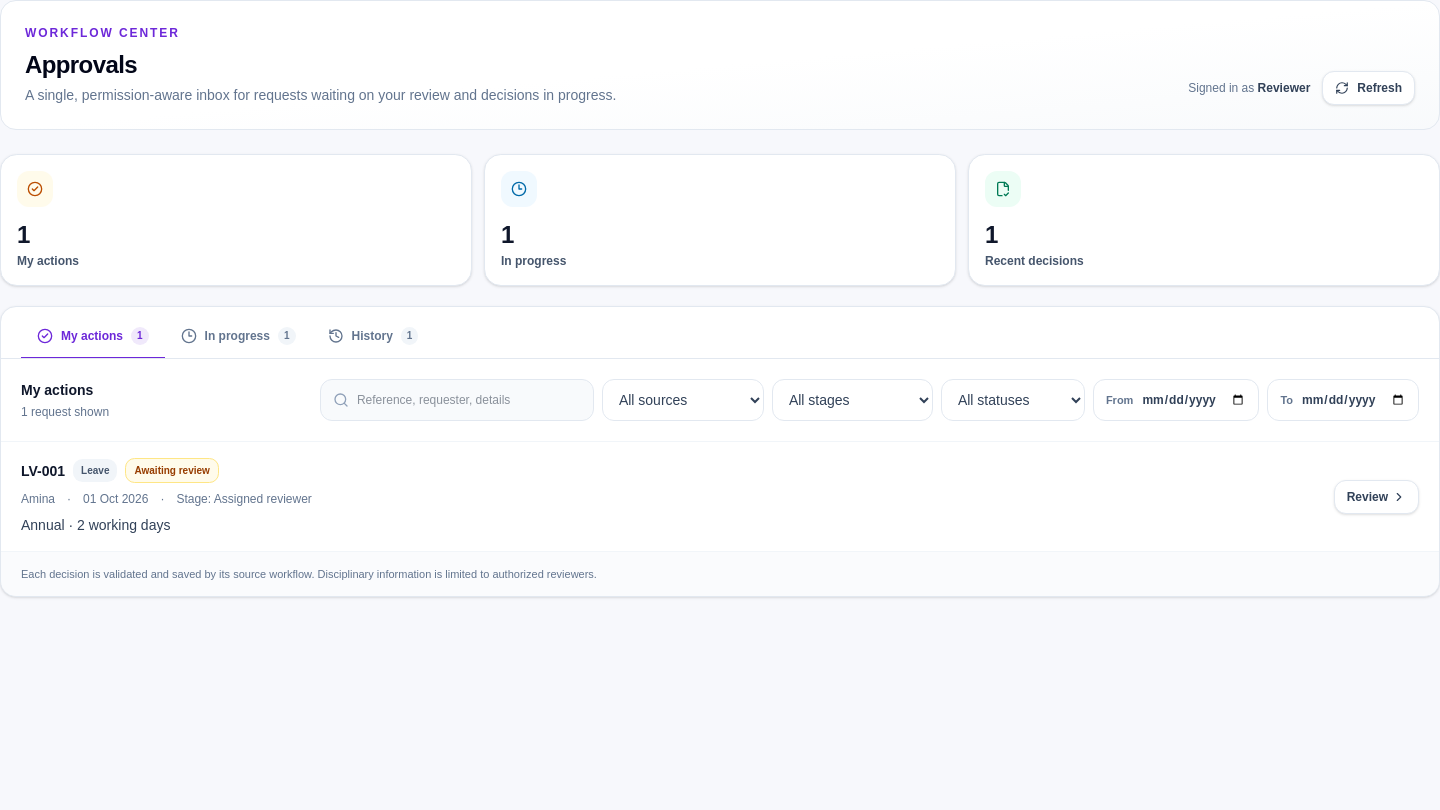
Test: approvals work inbox › submits a leave decision and displays its decision trail
The width and height of the screenshot is (1440, 810).
Later steps or results of the test are not shown.
Click the button "Review" at {"x": 1376, "y": 496}, box [1334,480,1419,514]
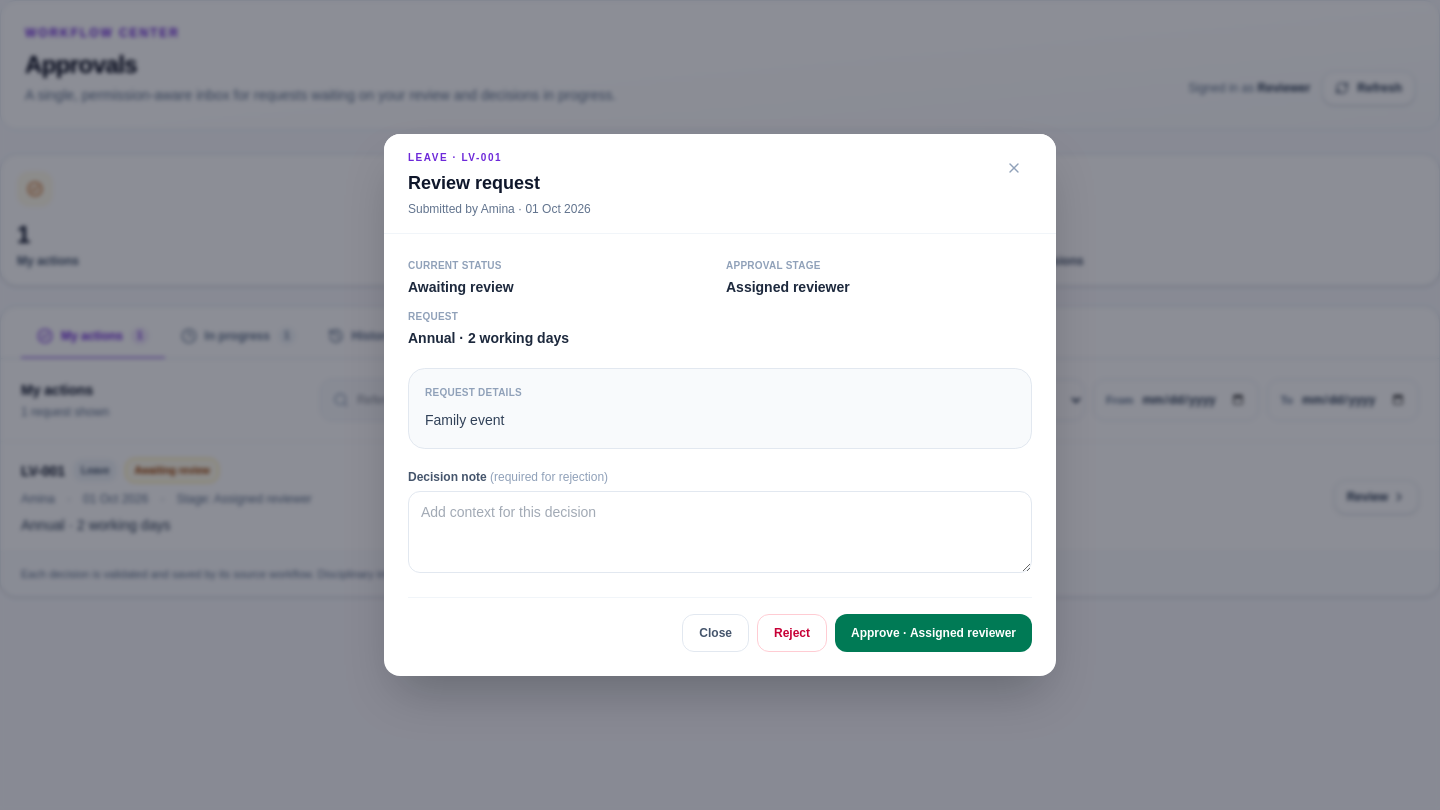
Now the dialog is shown, box [384,134,1056,676]
Now the text "Family event" is shown, box [425,412,504,428]
